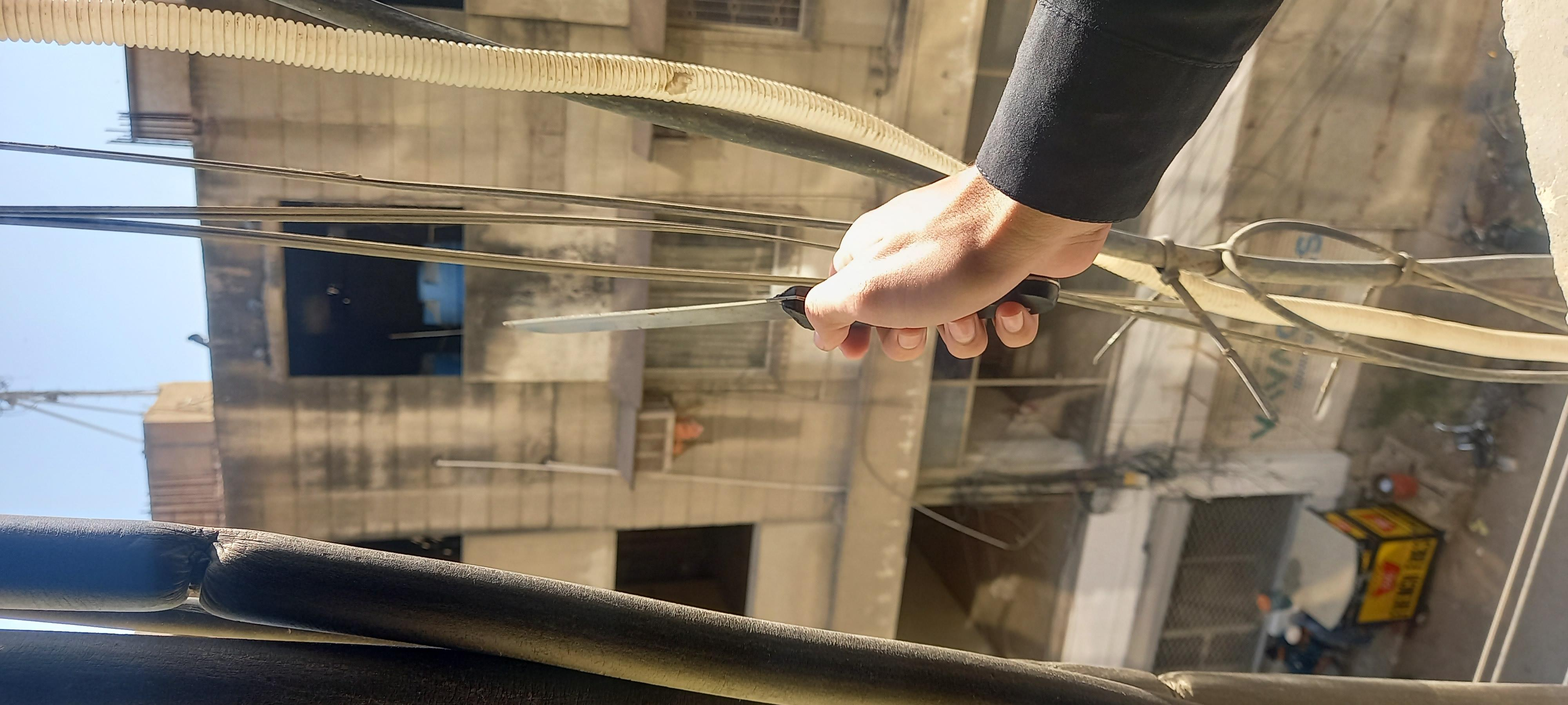knives: (776, 221, 984, 479)
